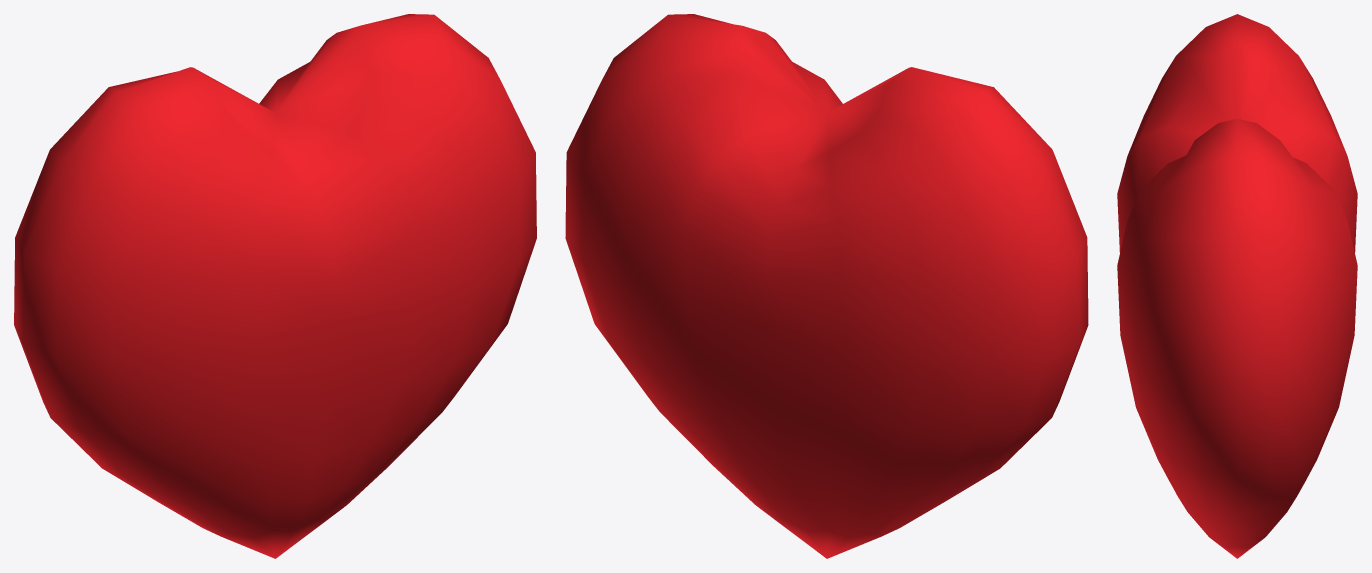
File: apteczka.FBX
3 views of the same model, side by side, from view 1: azimuth 30°, elevation 25°; view 2: azimuth 150°, elevation 25°; view 3: azimuth 270°, elevation 25° (orthographic). The views are drawn at different scales.
Parts seen in each view (by area): view 1: Sphere001; view 2: Sphere001; view 3: Sphere001.
Part boxes in pixels (bbox=[...]): Sphere001: bbox=[14, 14, 536, 558]; Sphere001: bbox=[565, 14, 1088, 558]; Sphere001: bbox=[1117, 14, 1357, 558].
Bounding box in the file's own units: 24.44 × 23.7 × 10.78.
Materials: 1 (1 with a texture image).
